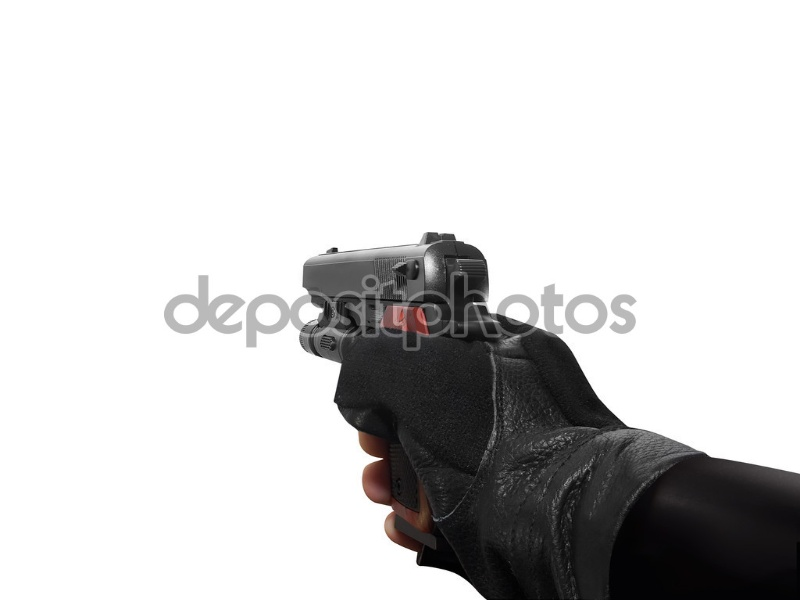gun: (293, 225, 492, 483)
